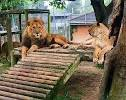lion: (18, 16, 71, 58), (86, 21, 114, 69)
